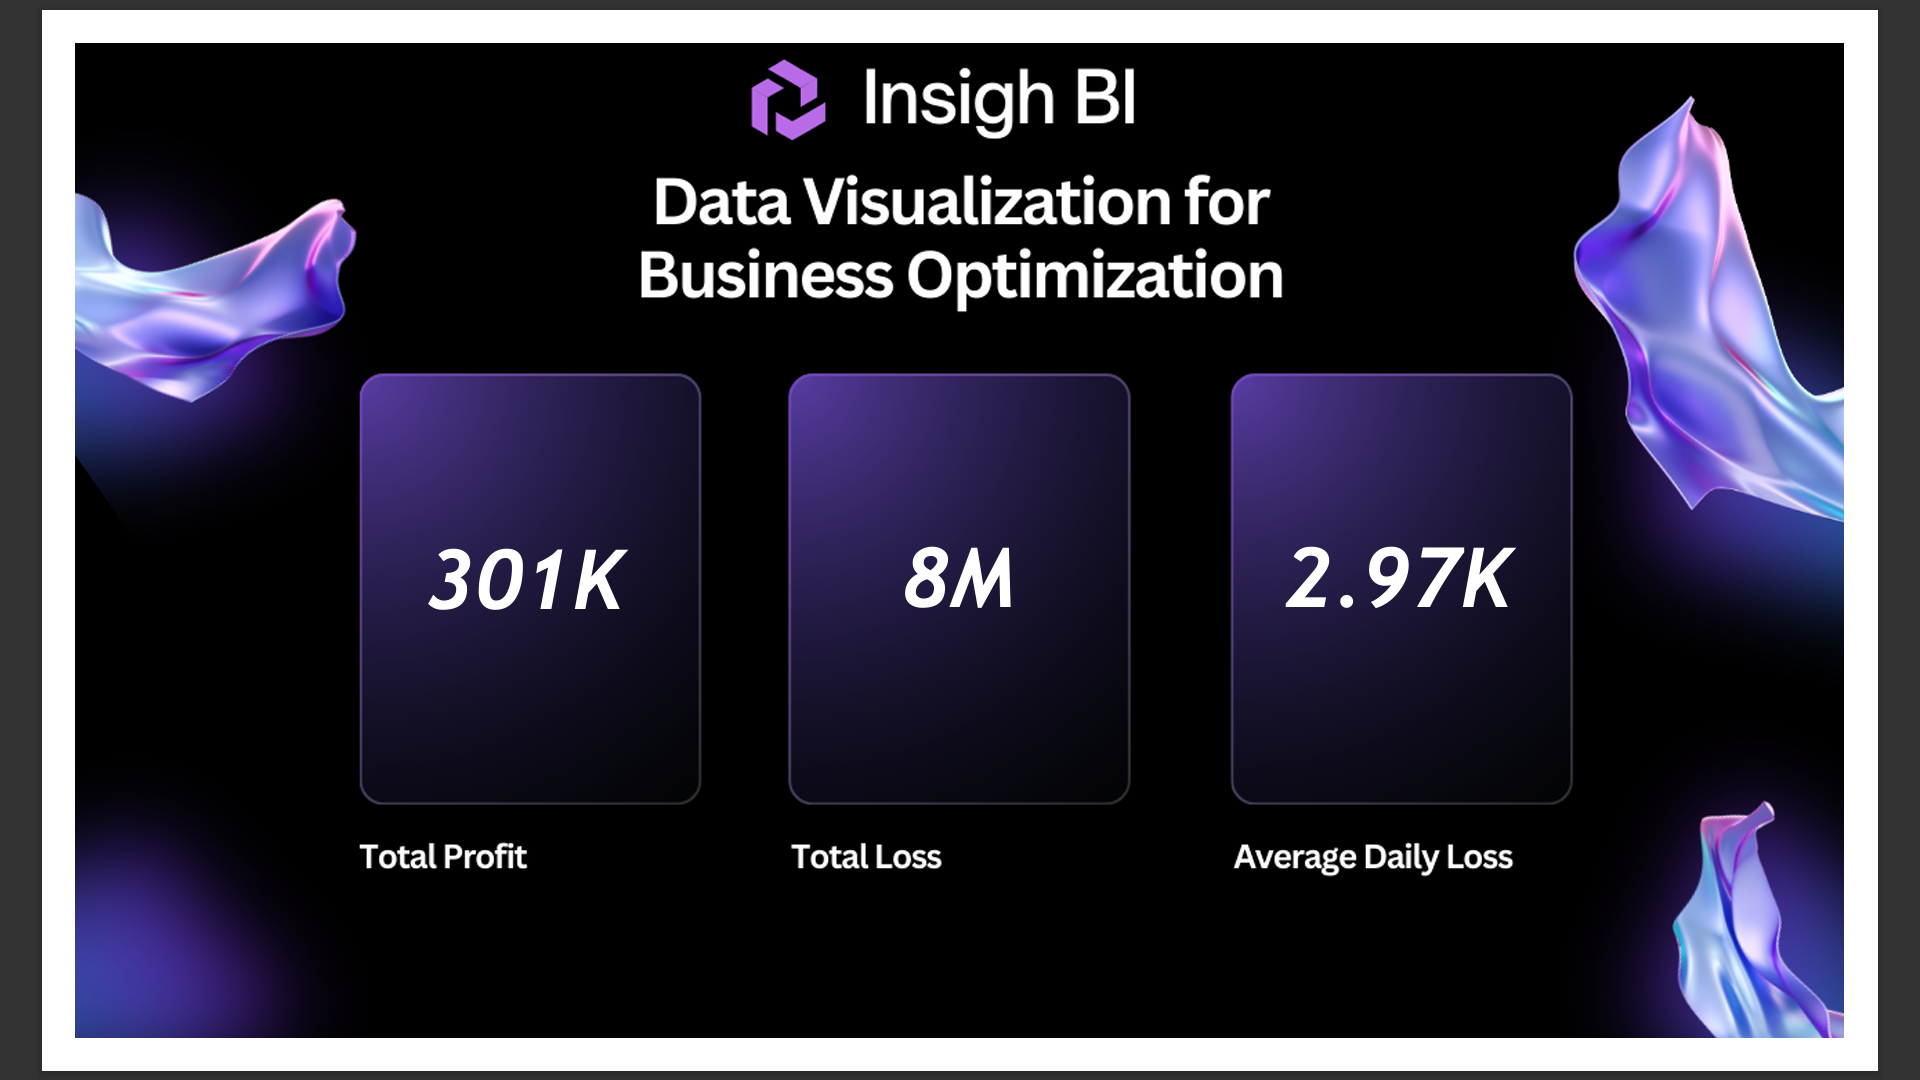

Layout of this report page (visuals, bound fields, positions):
{"tool":"powerbi","page":{"name":"Page 2","canvas":[1280,720],"ordinal":1},"visuals":[{"type":"card","fields":{"Values":["Measures Table.Total Profit"]},"box":[218.4,254.6,224.4,266.6],"z":0},{"type":"card","fields":{"Values":["Measures Table.Total Loss"]},"box":[527.5,254.6,224,266.8],"z":1000},{"type":"card","fields":{"Values":["Measures Table.Average Loss Per Day"]},"box":[853.1,254.6,224,266.8],"z":2000}]}

Visuals, with their boxes in screenshot pixels (x1, y1, x2, y2), scaled from the page's 1280x720 canvas onto the 1920x1080 screenshot:
card - Measures Table.Total Profit: 328,382,664,782
card - Measures Table.Total Loss: 791,382,1127,782
card - Measures Table.Average Loss Per Day: 1280,382,1616,782
